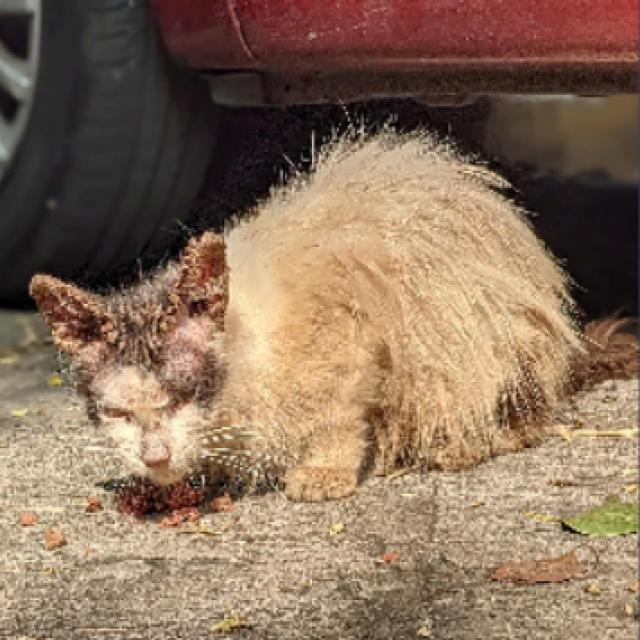ghe: (126, 246, 249, 365), (36, 280, 189, 358)
